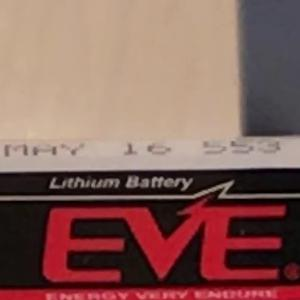LITHIUM: (40, 170, 128, 198)
